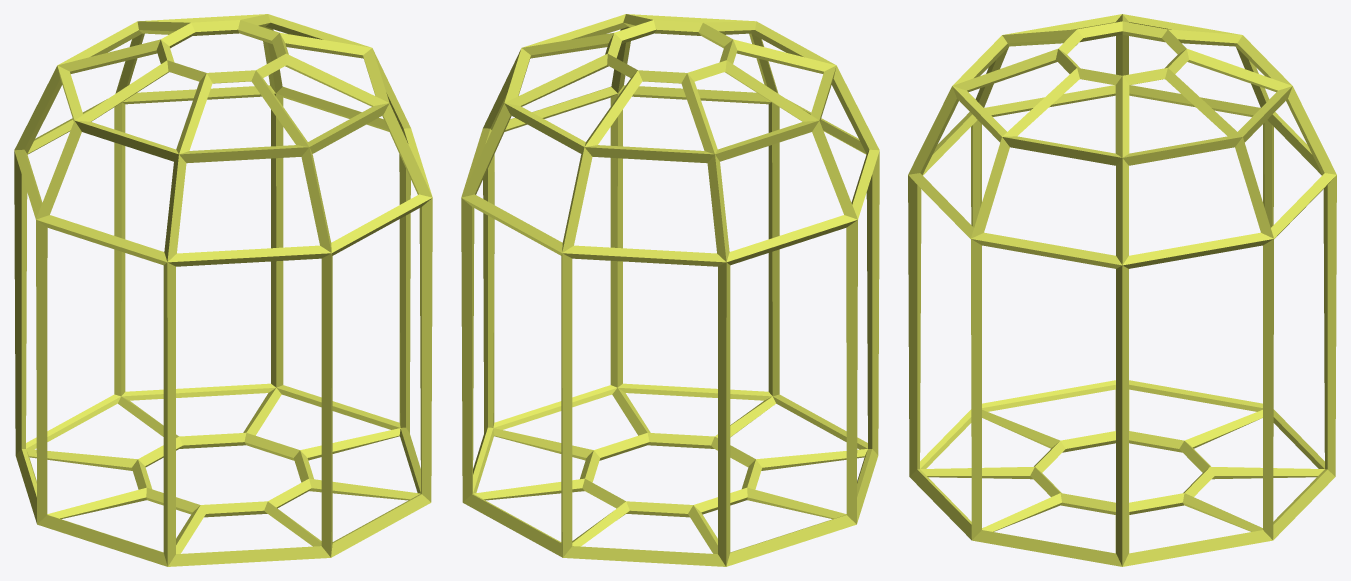
The model's file is cell.fbx.
3 renders of one model, left to right at view 1: azimuth 30°, elevation 25°; view 2: azimuth 150°, elevation 25°; view 3: azimuth 270°, elevation 25°, orthographic.
Parts seen in each view (by area): view 1: Cylinder.040; view 2: Cylinder.040; view 3: Cylinder.040.
Part boxes in pixels (x1=…): Cylinder.040: x1=14, y1=14, x2=432, y2=566; Cylinder.040: x1=461, y1=14, x2=879, y2=566; Cylinder.040: x1=908, y1=14, x2=1336, y2=566.
Size of the model in its own units: 334 by 371 by 334.
